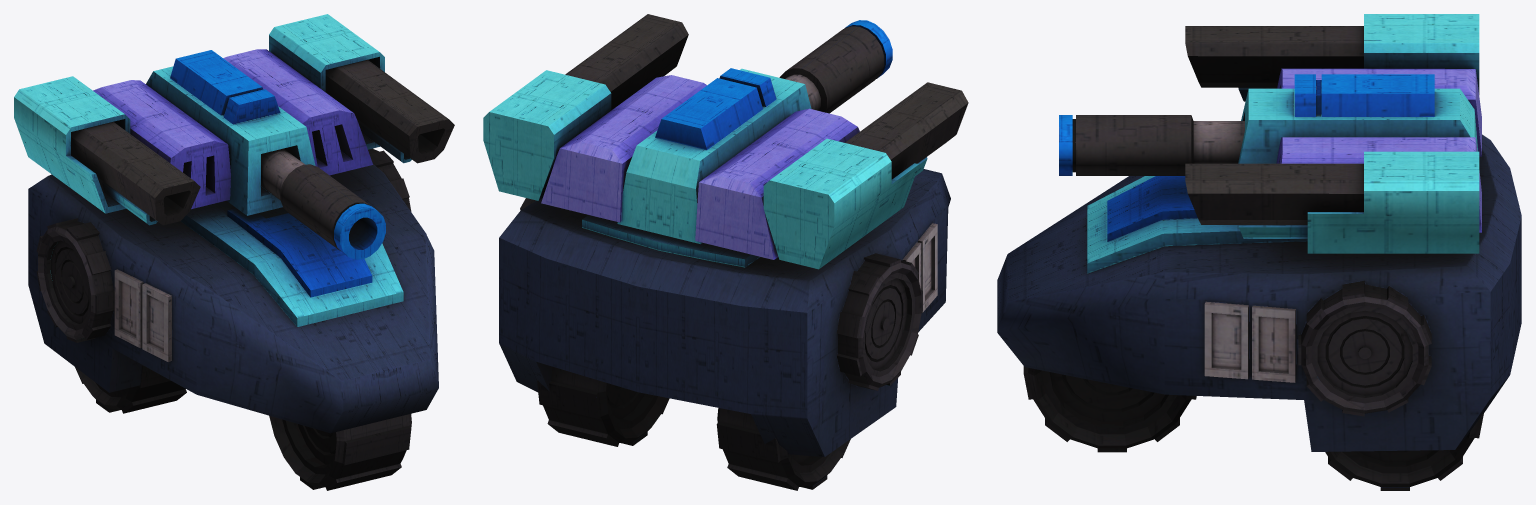
Rendered from PlayerA19.obj.
3 views of the same model, side by side, from view 1: azimuth 30°, elevation 25°; view 2: azimuth 150°, elevation 25°; view 3: azimuth 270°, elevation 25° (orthographic). The views are drawn at different scales.
Visible parts, largest first — view 1: Object001, Object002, Object004, Object003; view 2: Object001, Object002, Object003; view 3: Object001, Object002, Object004, Object003.
Part boxes in pixels (<box>): Object001: <box>28,49,438,433</box>; Object002: <box>14,14,454,225</box>; Object004: <box>269,414,411,490</box>; Object003: <box>75,365,186,413</box>; Object001: <box>499,20,950,456</box>; Object002: <box>483,14,968,269</box>; Object003: <box>537,366,850,490</box>; Object001: <box>997,68,1521,451</box>; Object002: <box>1185,14,1479,253</box>; Object004: <box>1023,366,1196,452</box>; Object003: <box>1325,412,1484,490</box>.
Bounding box in the file's own units: 93.13 × 87.74 × 119.
Materials: 1 (1 with a texture image).
